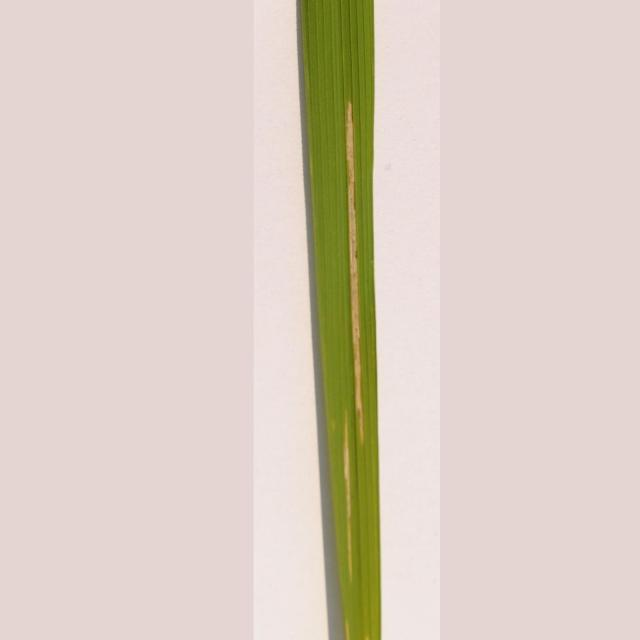leaf blight: (329, 93, 382, 581)
